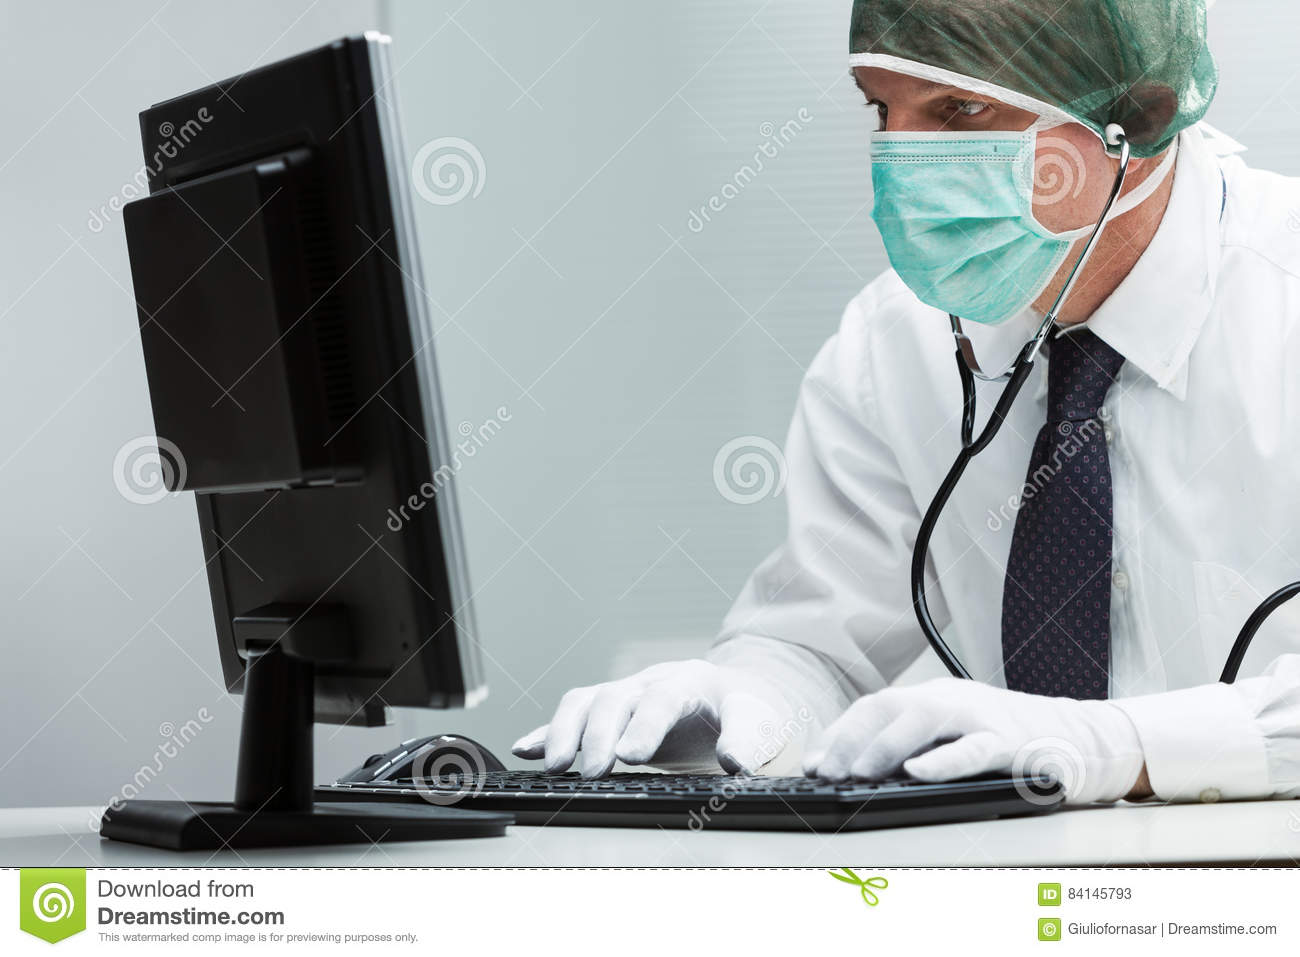mask: (863, 117, 1073, 313)
